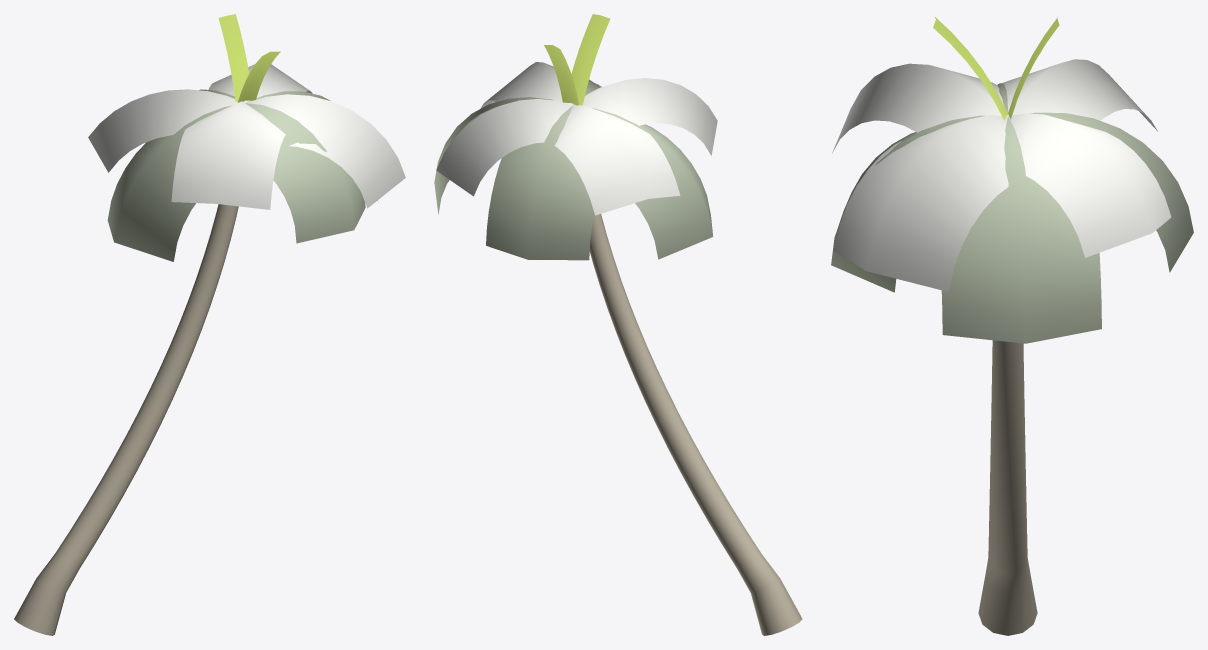
File: plant_palm_3.glb
3 views of the same model, side by side, from view 1: azimuth 30°, elevation 25°; view 2: azimuth 150°, elevation 25°; view 3: azimuth 270°, elevation 25° (orthographic). The views are drawn at different scales.
Parts seen in each view (by area): view 1: plant_palm_3; view 2: plant_palm_3; view 3: plant_palm_3.
Boxes of the visible parts, x1,y1,x2,y2 form: plant_palm_3: (14, 14, 405, 635); plant_palm_3: (434, 14, 802, 635); plant_palm_3: (831, 16, 1193, 635).
Bounding box in the file's own units: 7.94 × 11.69 × 5.15.
